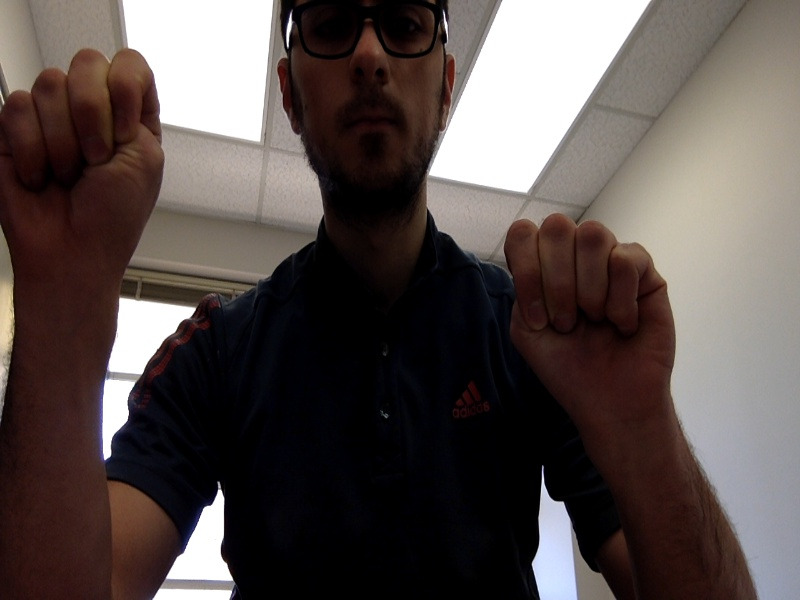0-hand: (4, 49, 165, 284), (504, 215, 676, 418)
